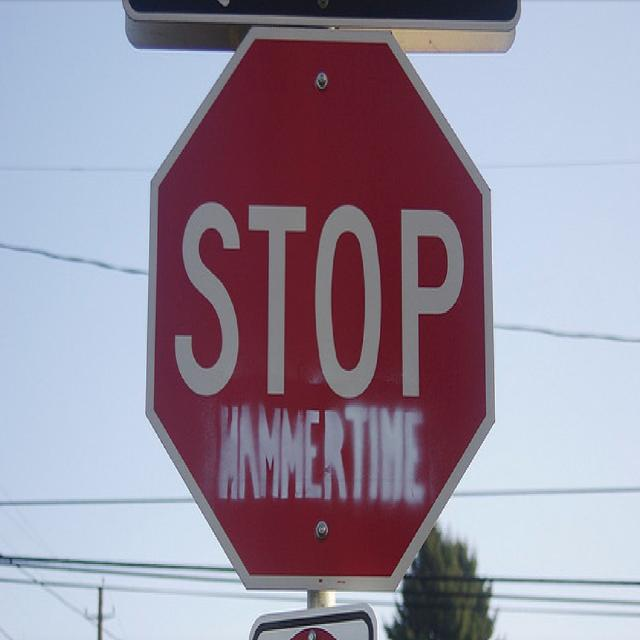STOP: (132, 12, 498, 592)
